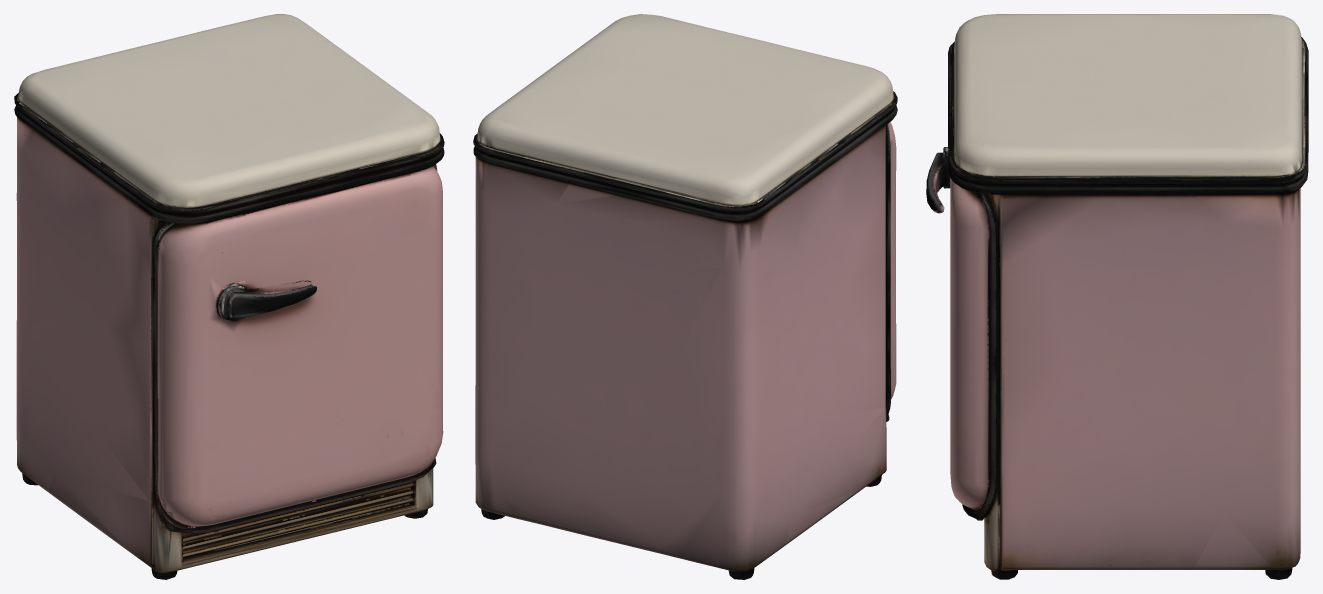
The model's file is fridge_pink_compact.glb.
3 views of the same model, side by side, from view 1: azimuth 30°, elevation 25°; view 2: azimuth 150°, elevation 25°; view 3: azimuth 270°, elevation 25° (orthographic). The views are drawn at different scales.
Visible parts, largest first — view 1: fridge_pink_compact; view 2: fridge_pink_compact; view 3: fridge_pink_compact.
Boxes of the visible parts, x1,y1,x2,y2 form: fridge_pink_compact: [14, 14, 444, 579]; fridge_pink_compact: [473, 14, 897, 579]; fridge_pink_compact: [926, 14, 1308, 579].
Bounding box in the file's own units: 0.6386 × 0.8499 × 0.6865.
1 material, 1 textured.
